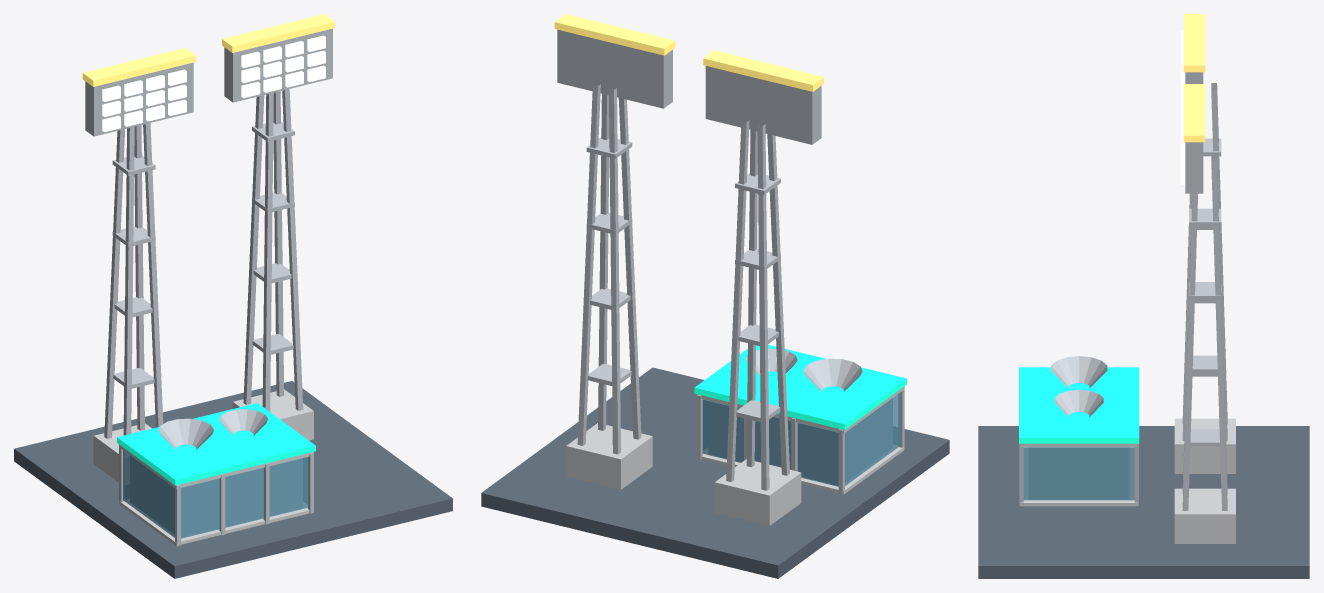
Rendered from floodlight_pylon_array.glb.
3 renders of one model, left to right at view 1: azimuth 30°, elevation 25°; view 2: azimuth 150°, elevation 25°; view 3: azimuth 270°, elevation 25°, orthographic. The views are drawn at different scales.
Parts seen in each view (by area): view 1: floodlight_pylon_array; view 2: floodlight_pylon_array; view 3: floodlight_pylon_array.
Boxes of the visible parts, x1,y1,x2,y2 form: floodlight_pylon_array: [14, 14, 452, 578]; floodlight_pylon_array: [481, 14, 949, 578]; floodlight_pylon_array: [978, 14, 1309, 578].
Size of the model in its own units: 1.84 by 2.66 by 1.84.
